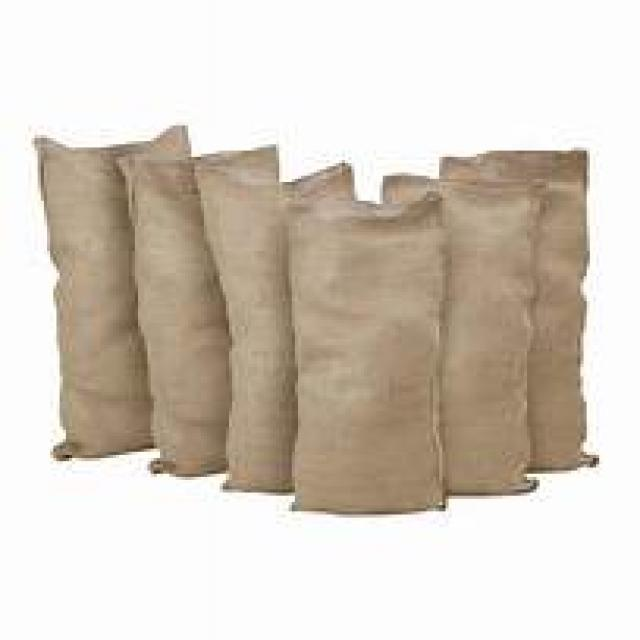gunny_bag: (285, 179, 455, 519), (380, 173, 549, 504), (191, 165, 298, 497)
